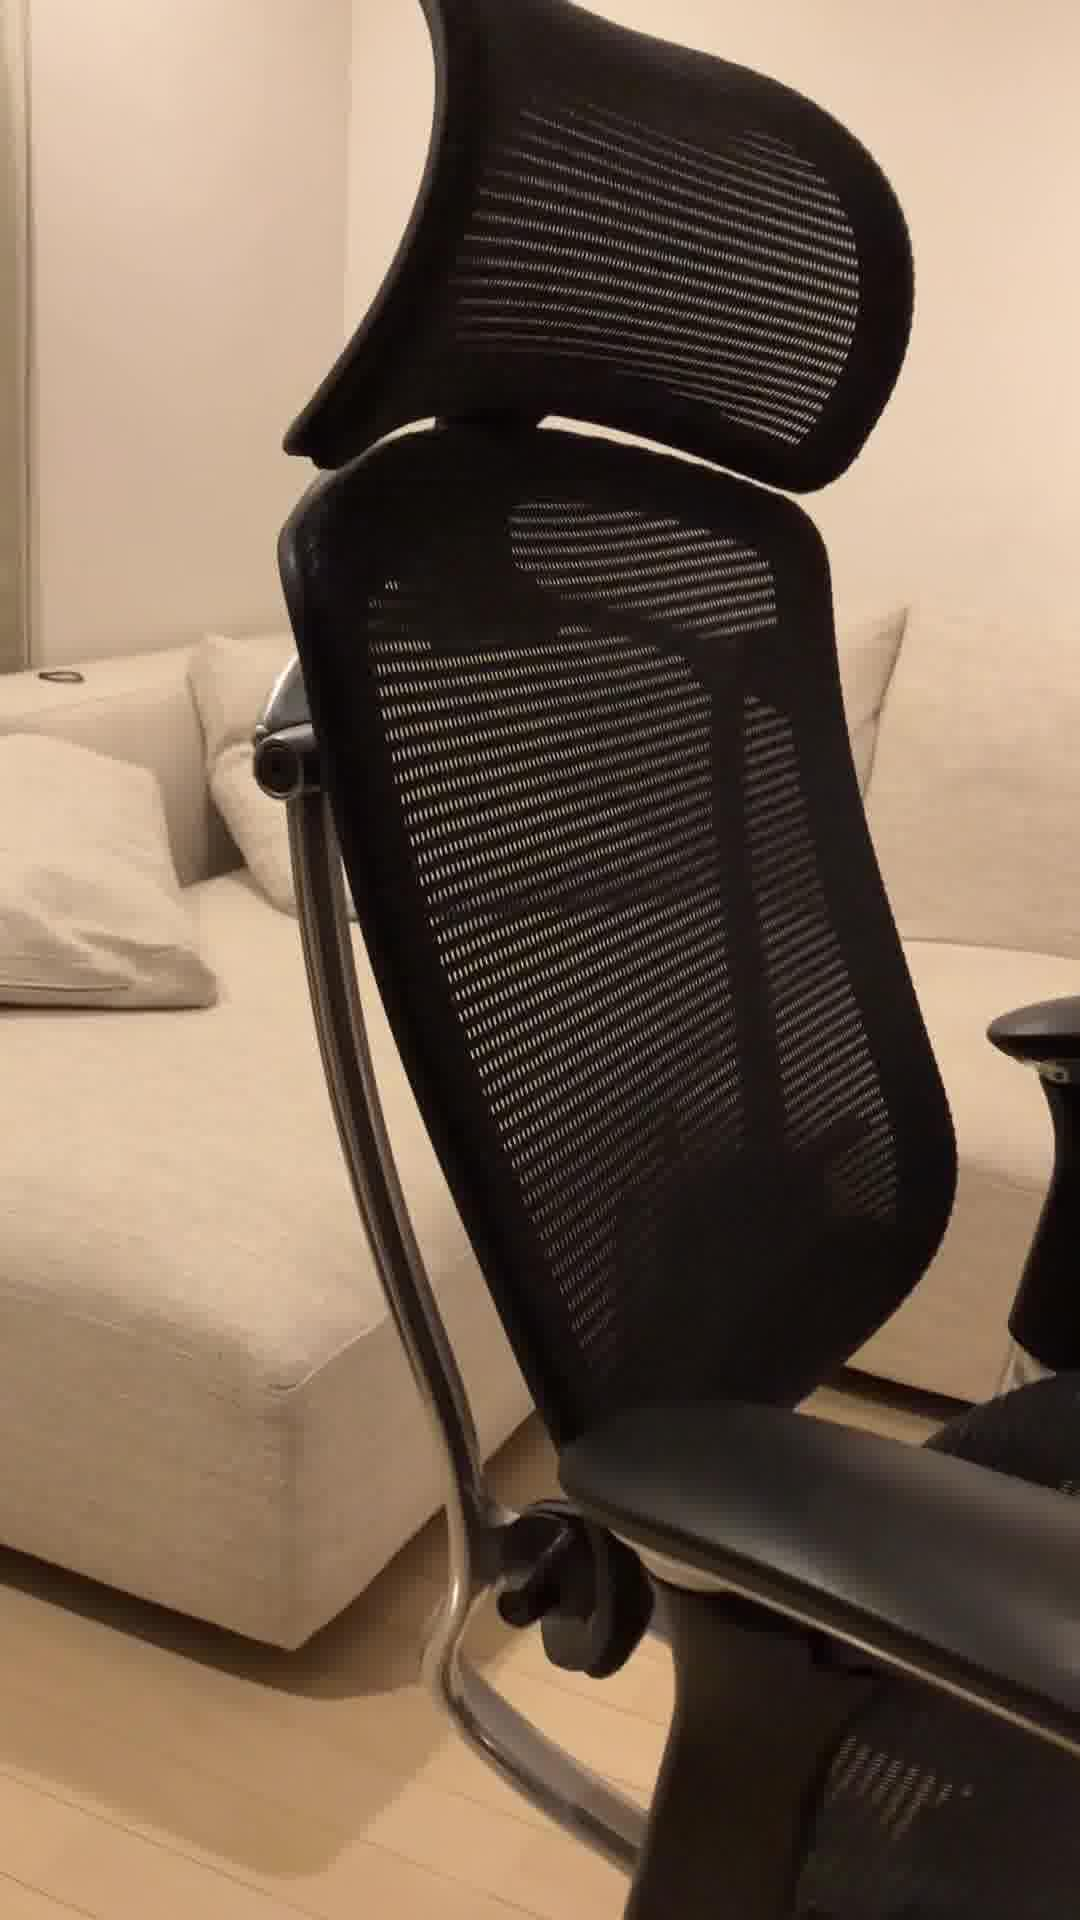okamura-contessa: (247, 0, 1080, 1920)
